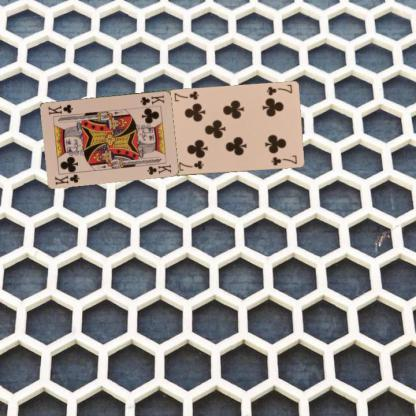7c: (176, 158, 205, 172), (263, 82, 292, 96)
Kc: (137, 92, 166, 107), (52, 171, 81, 186)
